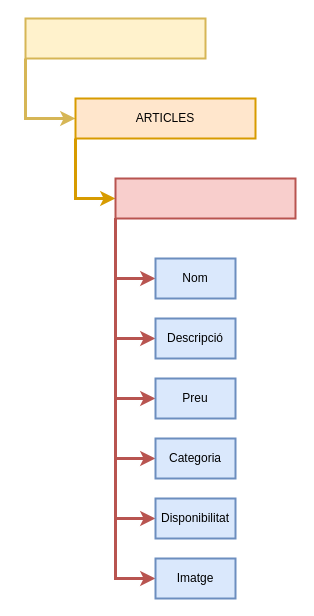
Image size: 314x616. Some labels were removed from this diagram. Here are the shapes that lost their labels. From the top down, the centre of each, then its label:
the point at 115,38: BOTIGA --> Nom, País
the point at 205,198: ARTICLE (Codi=AXXX)
